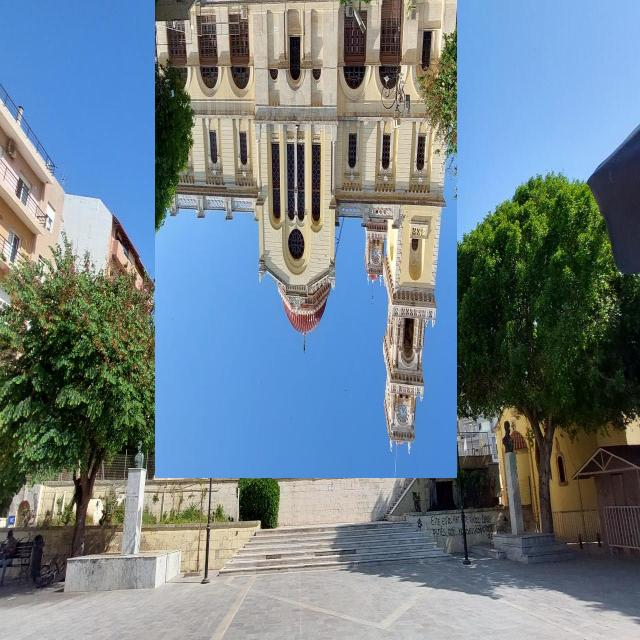Agios Minas: (156, 1, 458, 479)
